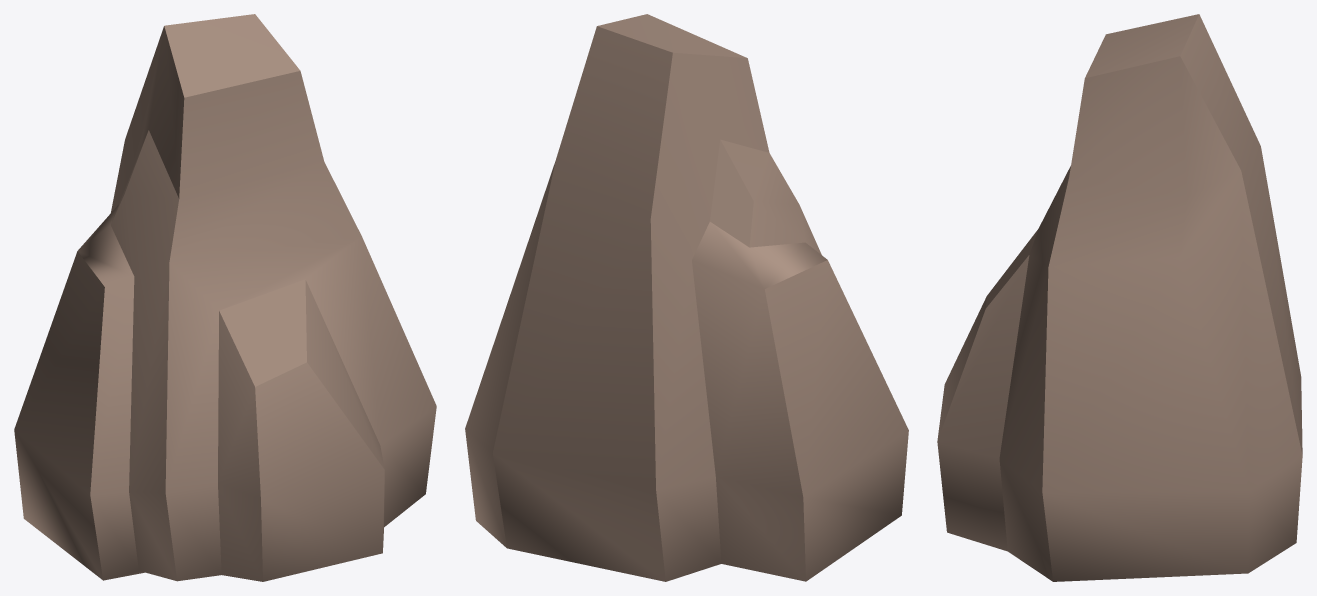
The model's file is Rock1_big.fbx.
The picture shows the model from 3 angles, left to right: view 1: azimuth 30°, elevation 25°; view 2: azimuth 150°, elevation 25°; view 3: azimuth 270°, elevation 25°; orthographic projection. The views are drawn at different scales.
Parts seen in each view (by area): view 1: Plane.009; view 2: Plane.009; view 3: Plane.009.
Boxes of the visible parts, x1,y1,x2,y2 form: Plane.009: (14, 14, 436, 581); Plane.009: (465, 14, 908, 581); Plane.009: (937, 14, 1302, 581).
Bounding box in the file's own units: 732 × 948 × 657.
